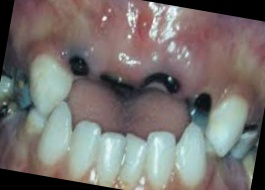Caries: (64, 50, 184, 107), (183, 85, 216, 126)
